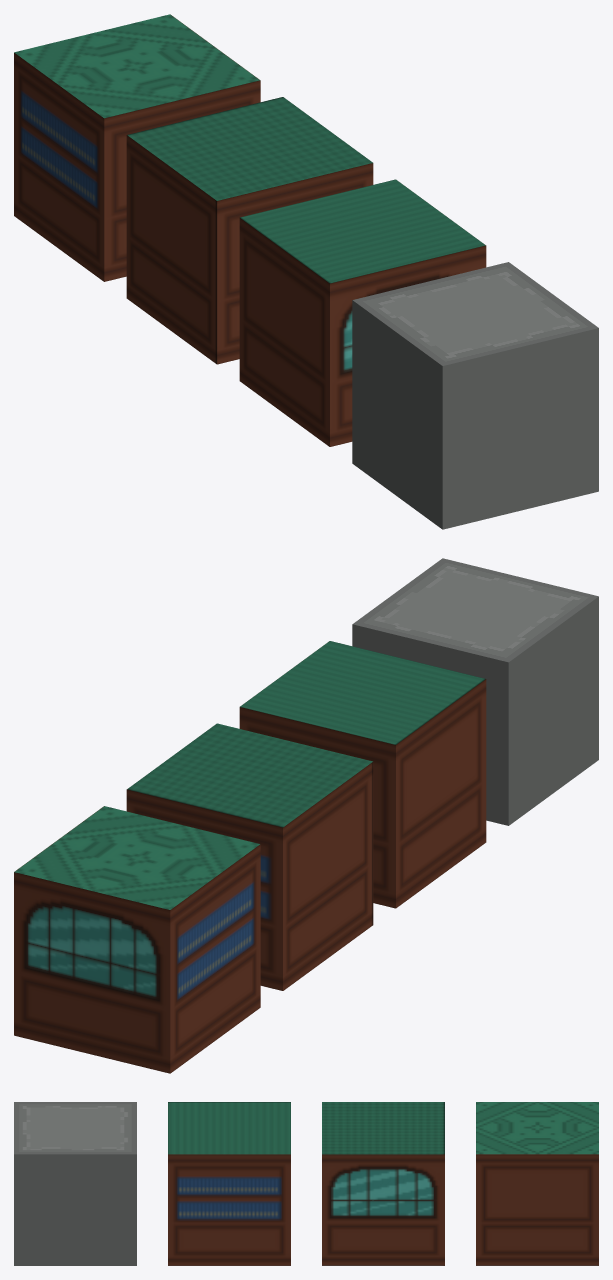
The model's file is New Block Set.glb.
3 renders of one model, top to bottom at view 1: azimuth 30°, elevation 25°; view 2: azimuth 150°, elevation 25°; view 3: azimuth 270°, elevation 25°, orthographic. The views are drawn at different scales.
Visible parts, largest first — view 1: Stone_Tile, Carpet_Floor_Gingham, Carpet_Floor_Standard, Carpet_Floor_Fancy; view 2: Carpet_Floor_Fancy, Carpet_Floor_Standard, Carpet_Floor_Gingham, Stone_Tile; view 3: Stone_Tile, Carpet_Floor_Standard, Carpet_Floor_Gingham, Carpet_Floor_Fancy.
Boxes of the visible parts, x1,y1,x2,y2 form: Stone_Tile: (352,262,598,529); Carpet_Floor_Gingham: (126,97,373,364); Carpet_Floor_Standard: (239,179,486,446); Carpet_Floor_Fancy: (14,14,260,281); Carpet_Floor_Fancy: (14,806,260,1073); Carpet_Floor_Standard: (239,641,486,908); Carpet_Floor_Gingham: (126,723,373,990); Stone_Tile: (352,558,598,825); Stone_Tile: (14,1102,136,1265); Carpet_Floor_Standard: (168,1102,290,1265); Carpet_Floor_Gingham: (322,1102,444,1265); Carpet_Floor_Fancy: (476,1102,598,1265).
Size of what is drawn, in the model's own units: 8 by 8 by 38.
5 materials, 4 textured.
